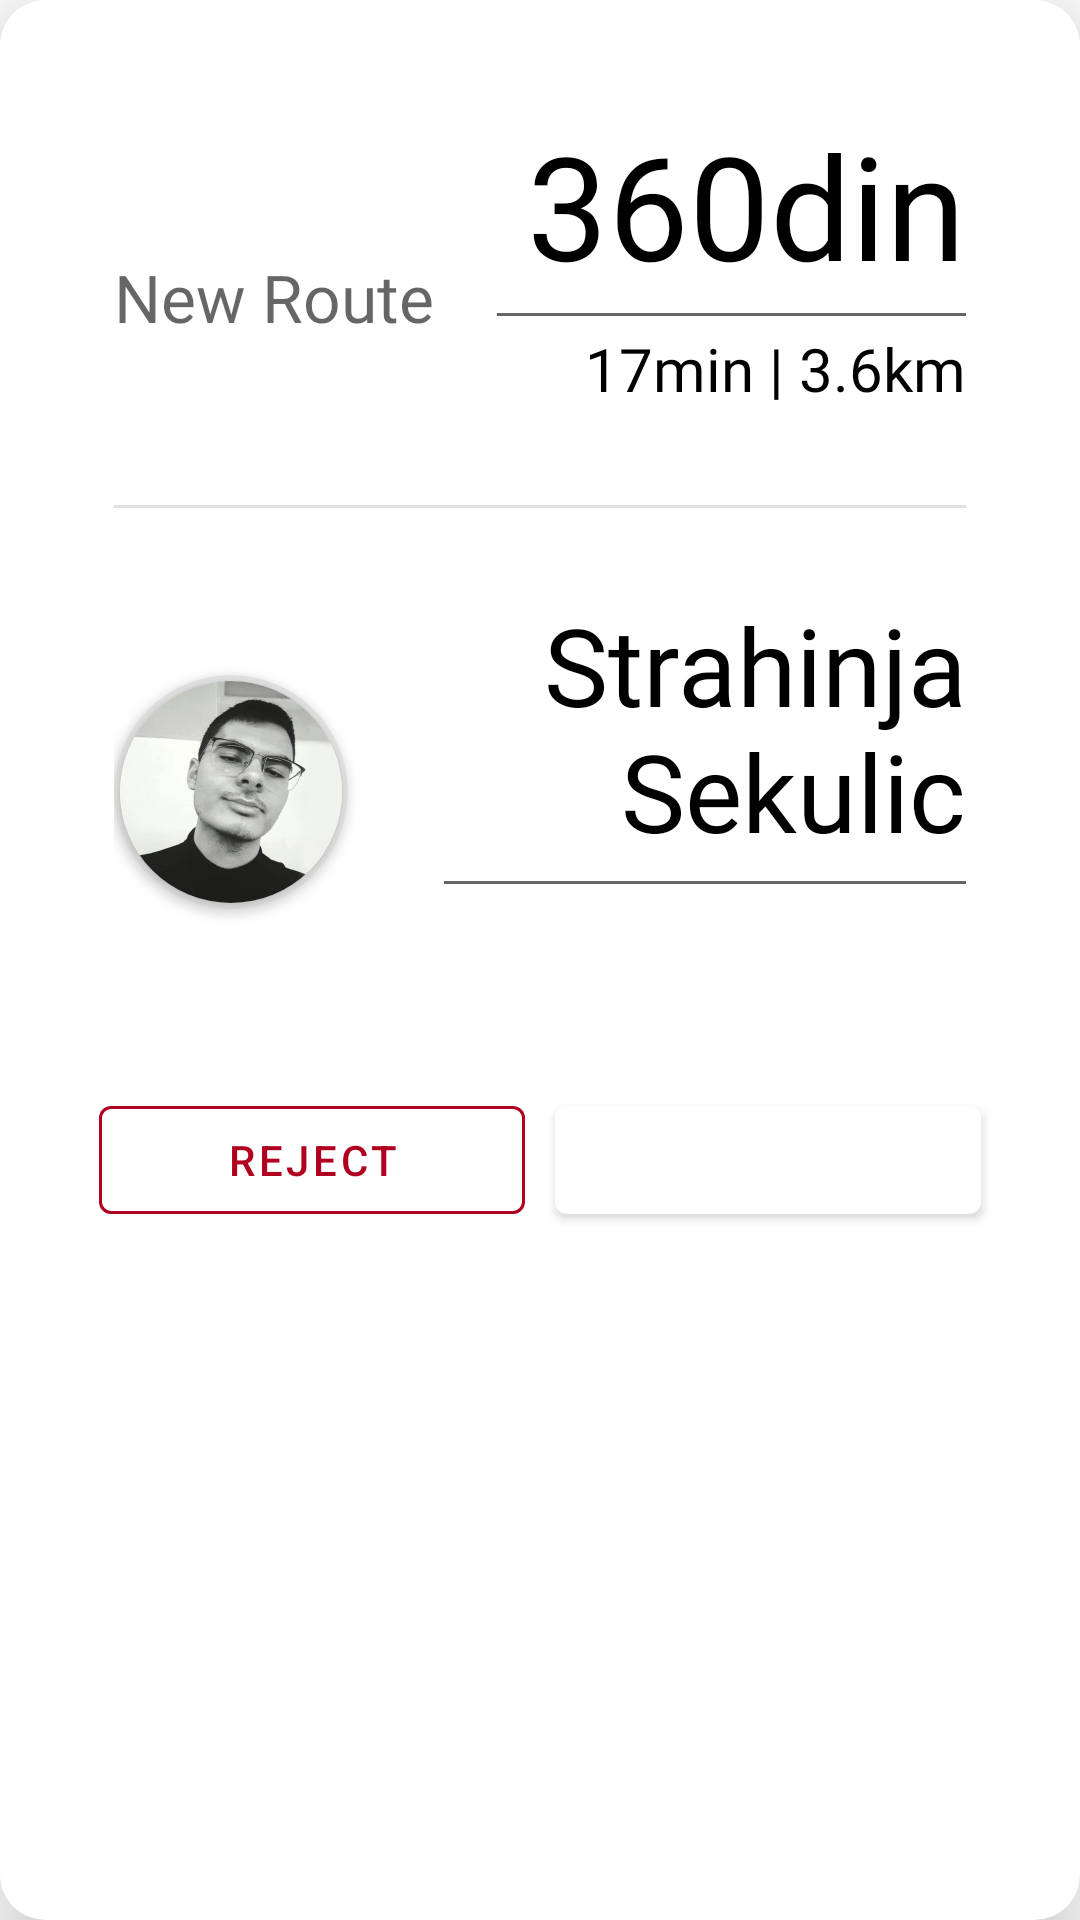

Named icons in this screenshot (1080*1920) and their centers, point (x, y):
profile pic: point (231, 792)
